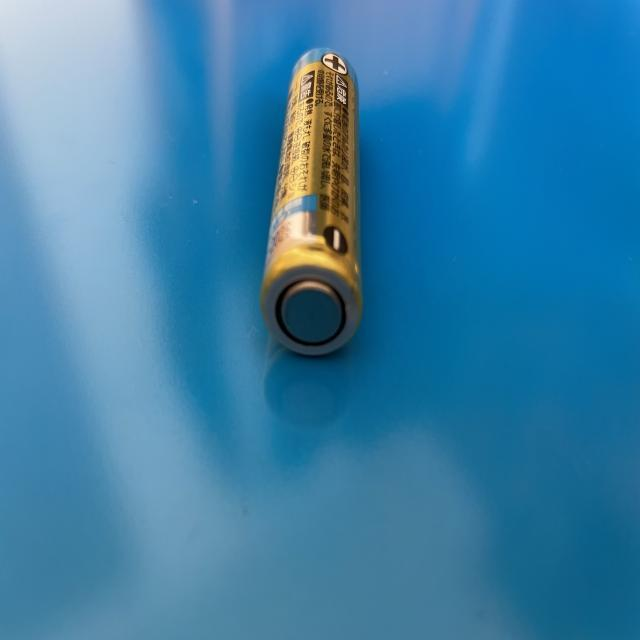hazardous waste: (260, 46, 365, 358)
